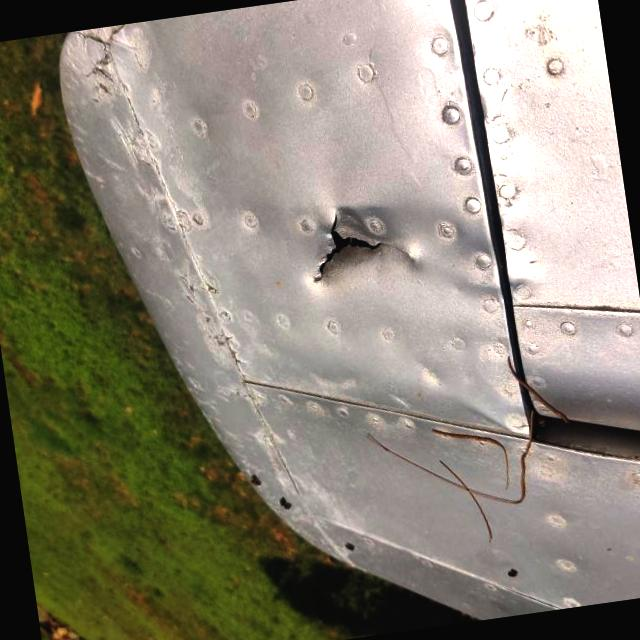crack: (192, 217, 302, 345)
